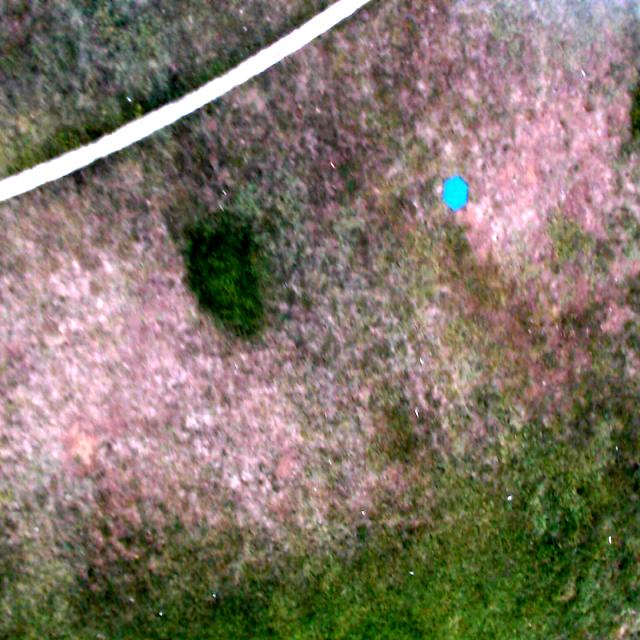blue_hexagon: (441, 177, 469, 211)
